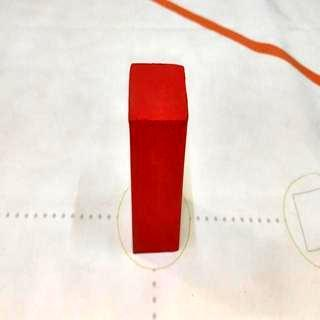redbox: (126, 61, 188, 253)
